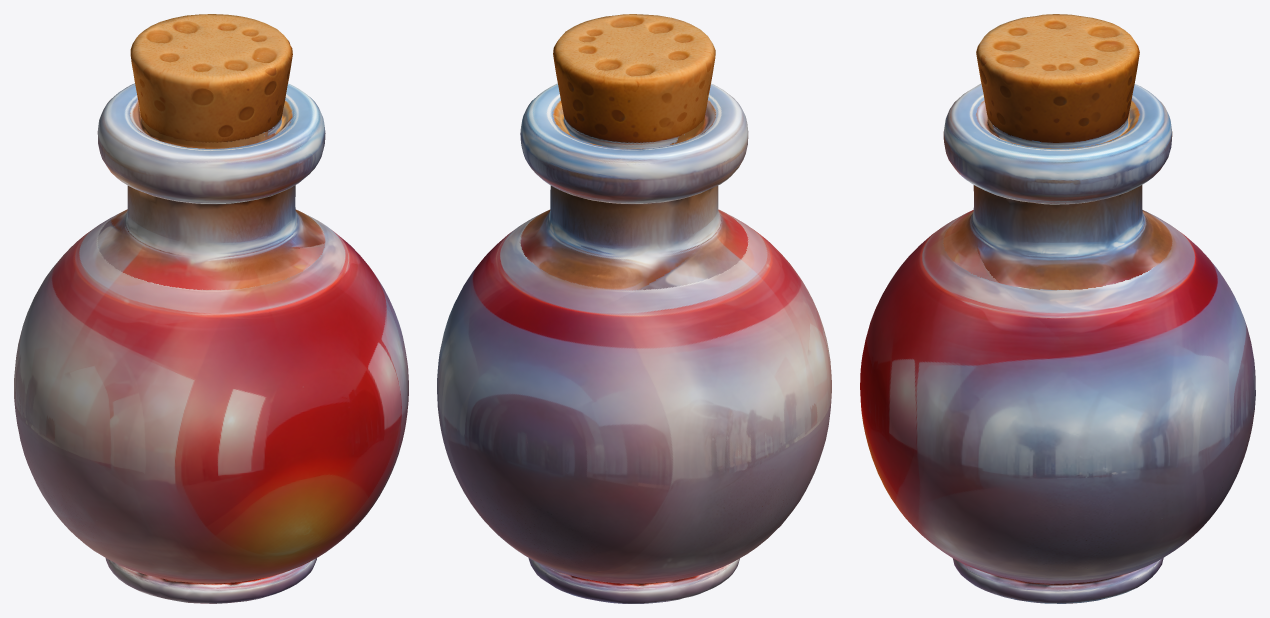
Rendered from potion-red.glb.
The picture shows the model from 3 angles, left to right: view 1: azimuth 30°, elevation 25°; view 2: azimuth 150°, elevation 25°; view 3: azimuth 270°, elevation 25°; orthographic projection.
Visible parts, largest first — view 1: texture_mapping; view 2: texture_mapping; view 3: texture_mapping.
Part boxes in pixels (x1,y1,x2,y2): texture_mapping: (14, 14, 408, 603); texture_mapping: (437, 14, 831, 603); texture_mapping: (860, 14, 1255, 603).
Size of the model in its own units: 0.694 by 1 by 0.6943.
Materials: 1 (1 with a texture image).
